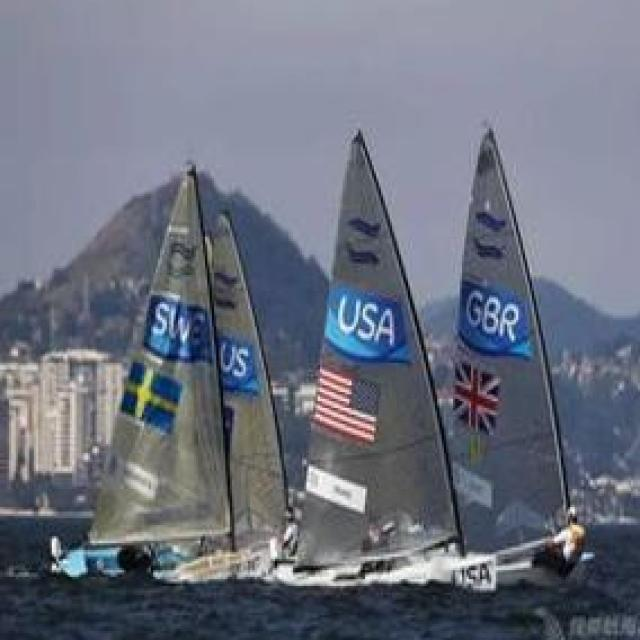sailboat: (286, 111, 474, 588), (419, 126, 609, 570), (80, 156, 242, 567), (189, 196, 291, 598)
